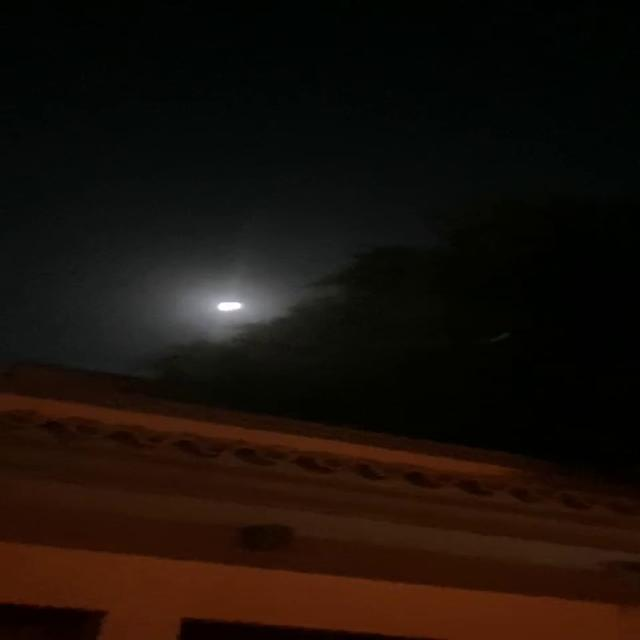moon: (216, 301, 246, 319)
